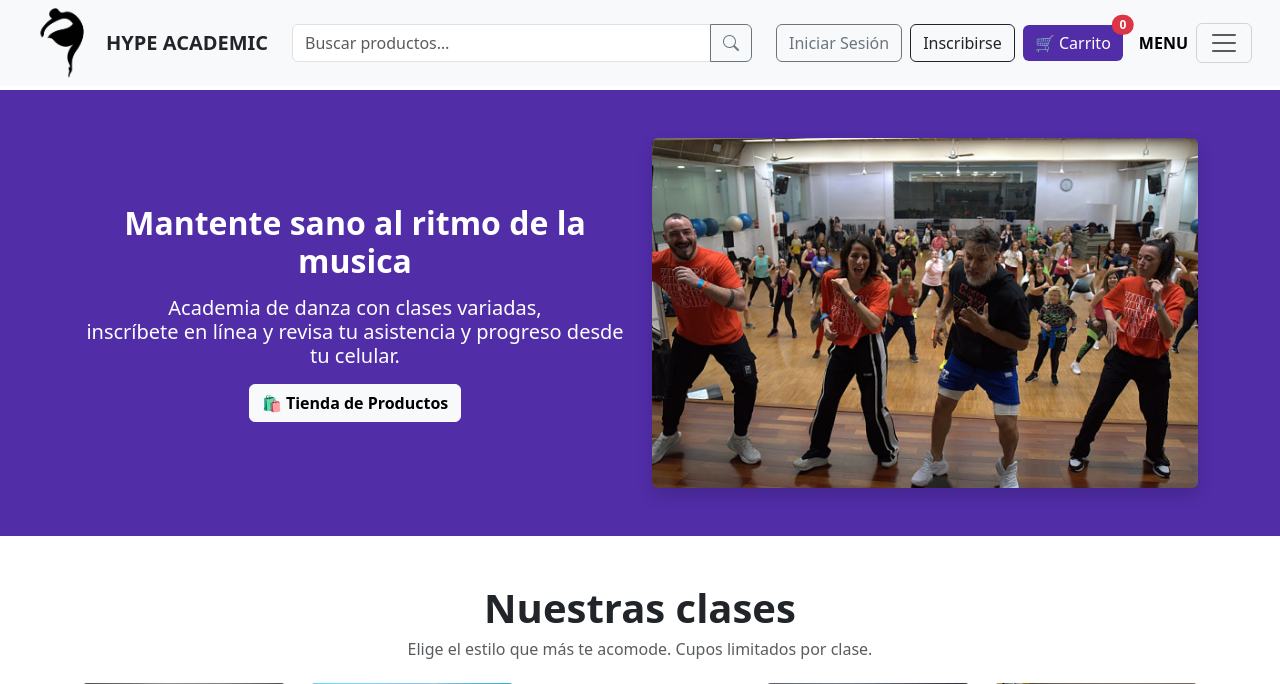
Test case: App (navegación e integración) › navega a Nosotros desde el menú lateral
The width and height of the screenshot is (1280, 684).
Click the button named "Abrir menú": (1224, 43) [1196, 23, 1252, 63]
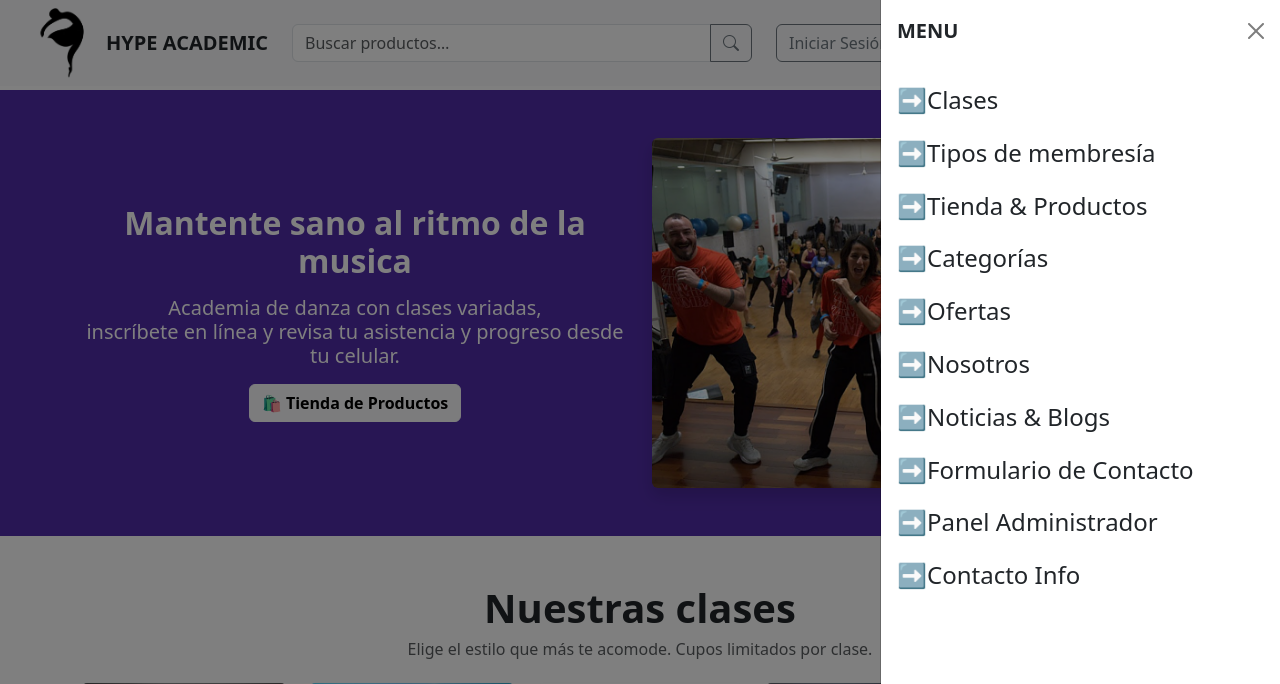
Click the button "➡️Nosotros": (963, 368) [897, 342, 1030, 395]
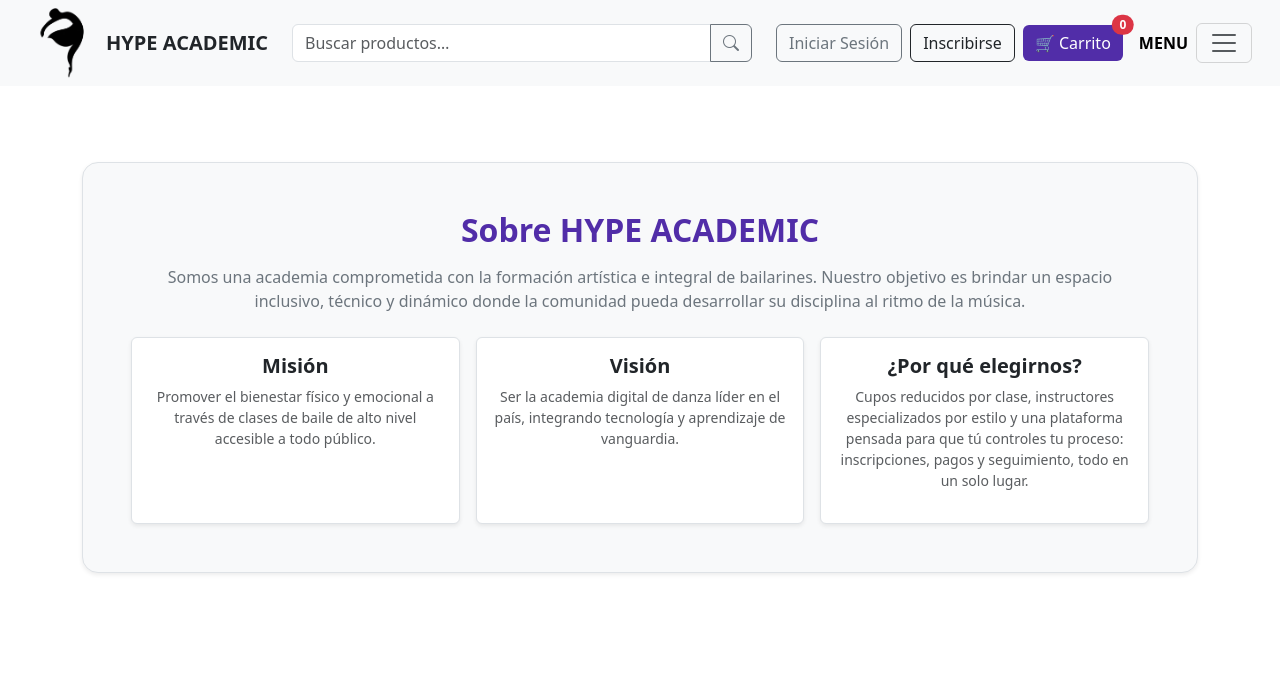
Expected: the heading "Sobre HYPE ACADEMIC" is shown, [461, 208, 819, 251]
Expected: the heading "Nuestras clases" is gone
